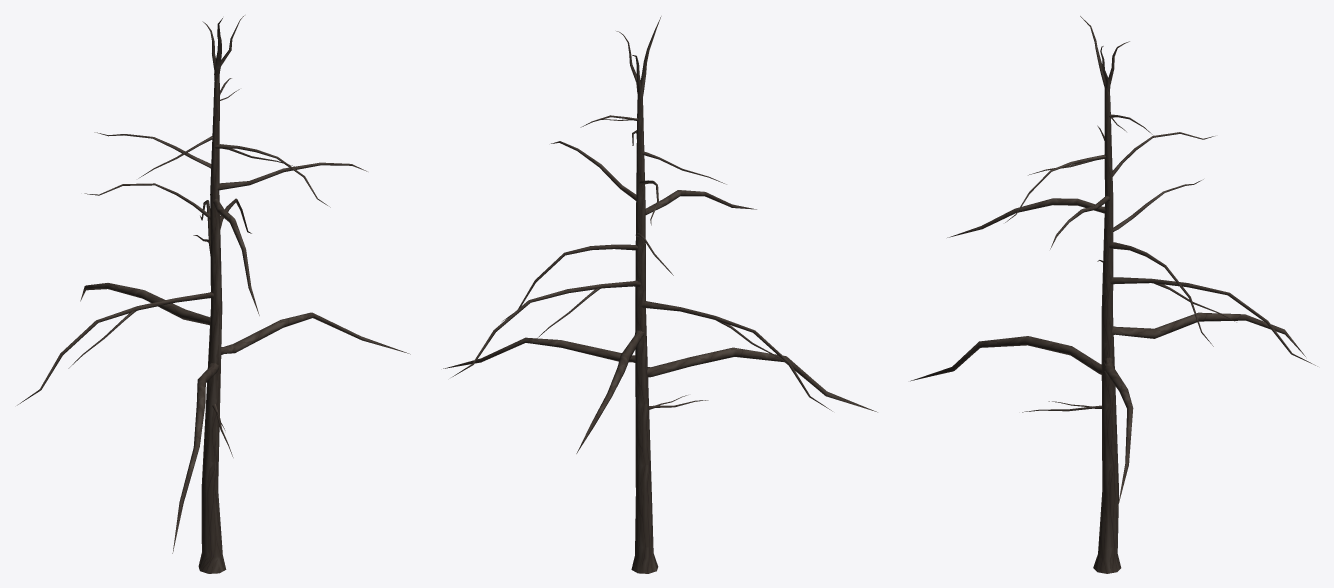
Rendered from tall_tree_02.glb.
The picture shows the model from 3 angles, left to right: view 1: azimuth 30°, elevation 25°; view 2: azimuth 150°, elevation 25°; view 3: azimuth 270°, elevation 25°; orthographic projection. The views are drawn at different scales.
Visible parts, largest first — view 1: tall_tree_02; view 2: tall_tree_02; view 3: tall_tree_02.
Boxes of the visible parts, <box> form: tall_tree_02: <box>17,15,410,573</box>; tall_tree_02: <box>443,16,877,573</box>; tall_tree_02: <box>910,16,1317,573</box>.
Bounding box in the file's own units: 3.37 × 4.5 × 3.04.
1 material, 1 textured.
